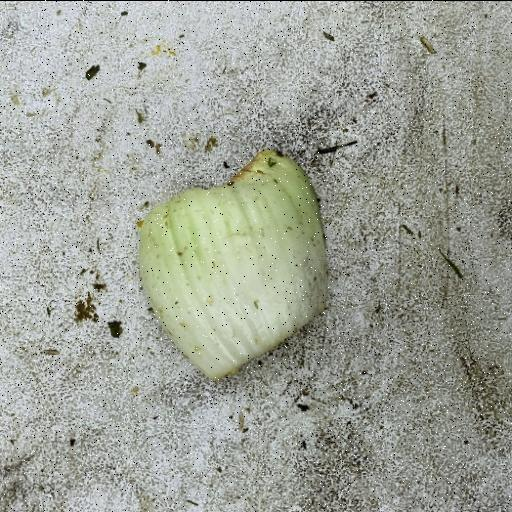Waste: (135, 146, 329, 382)
